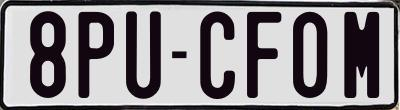0: (292, 10, 326, 102)
8: (28, 10, 70, 102)
C: (199, 8, 236, 99)
F: (246, 9, 283, 99)
M: (341, 11, 379, 98)
P: (75, 11, 115, 100)
U: (124, 8, 163, 100)
